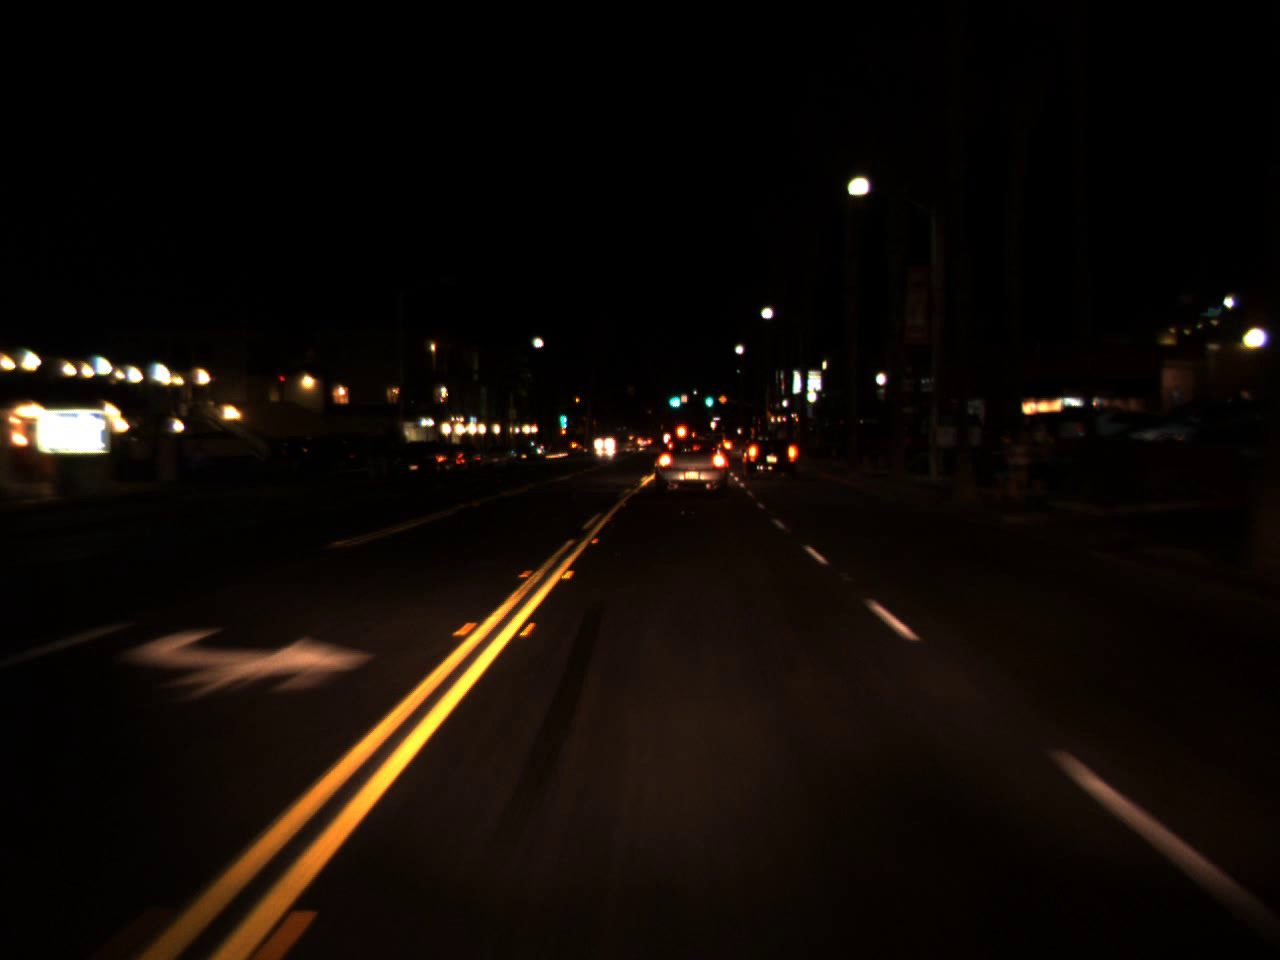go: (665, 387, 683, 408), (558, 401, 567, 431), (702, 387, 714, 408)
